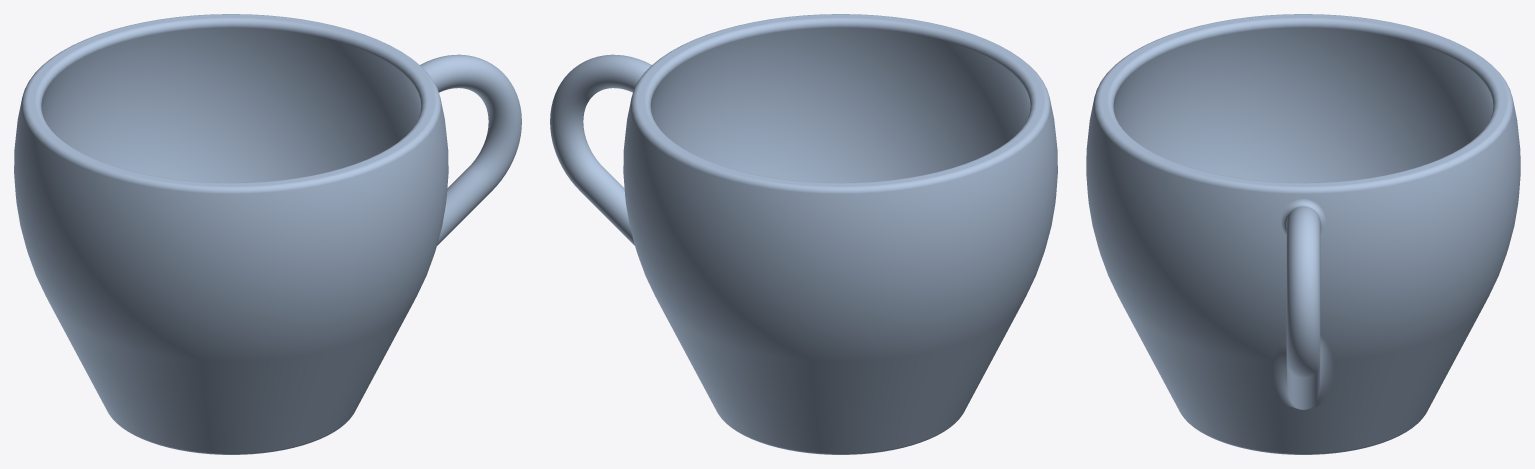
Rendered from coffee-cup.obj.
3 views of the same model, side by side, from view 1: azimuth 30°, elevation 25°; view 2: azimuth 150°, elevation 25°; view 3: azimuth 270°, elevation 25° (orthographic).
Visible parts, largest first — view 1: Coffee_Cup; view 2: Coffee_Cup; view 3: Coffee_Cup.
Part boxes in pixels (x1,y1,x2,y2): Coffee_Cup: [14, 14, 521, 454]; Coffee_Cup: [550, 14, 1057, 454]; Coffee_Cup: [1086, 14, 1520, 454].
Bounding box in the file's own units: 0.1648 × 0.1 × 0.1301.
